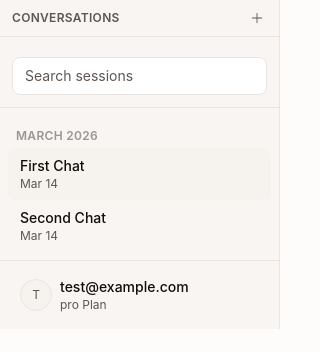
SessionSidebar › clicking Rename enters inline edit mode
This screenshot has width=320, height=352.
Hover over the element with test id "session-item-session-1" at (140, 174), box [8,148,271,200]
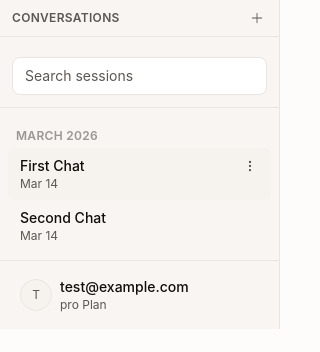
Click the button with test id "session-menu-trigger" at (250, 166), box [241,157,259,175]
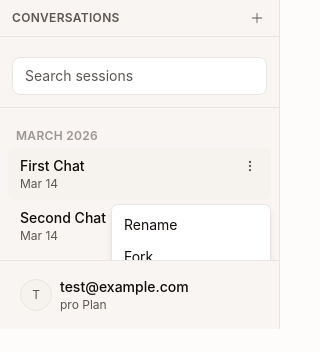
Click the button "Rename" at (151, 224), box [124,216,178,233]
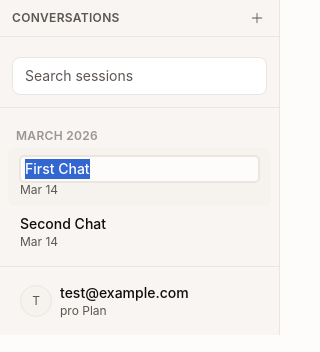
Expected: the field showing "First Chat" is shown, [20,156,259,182]
